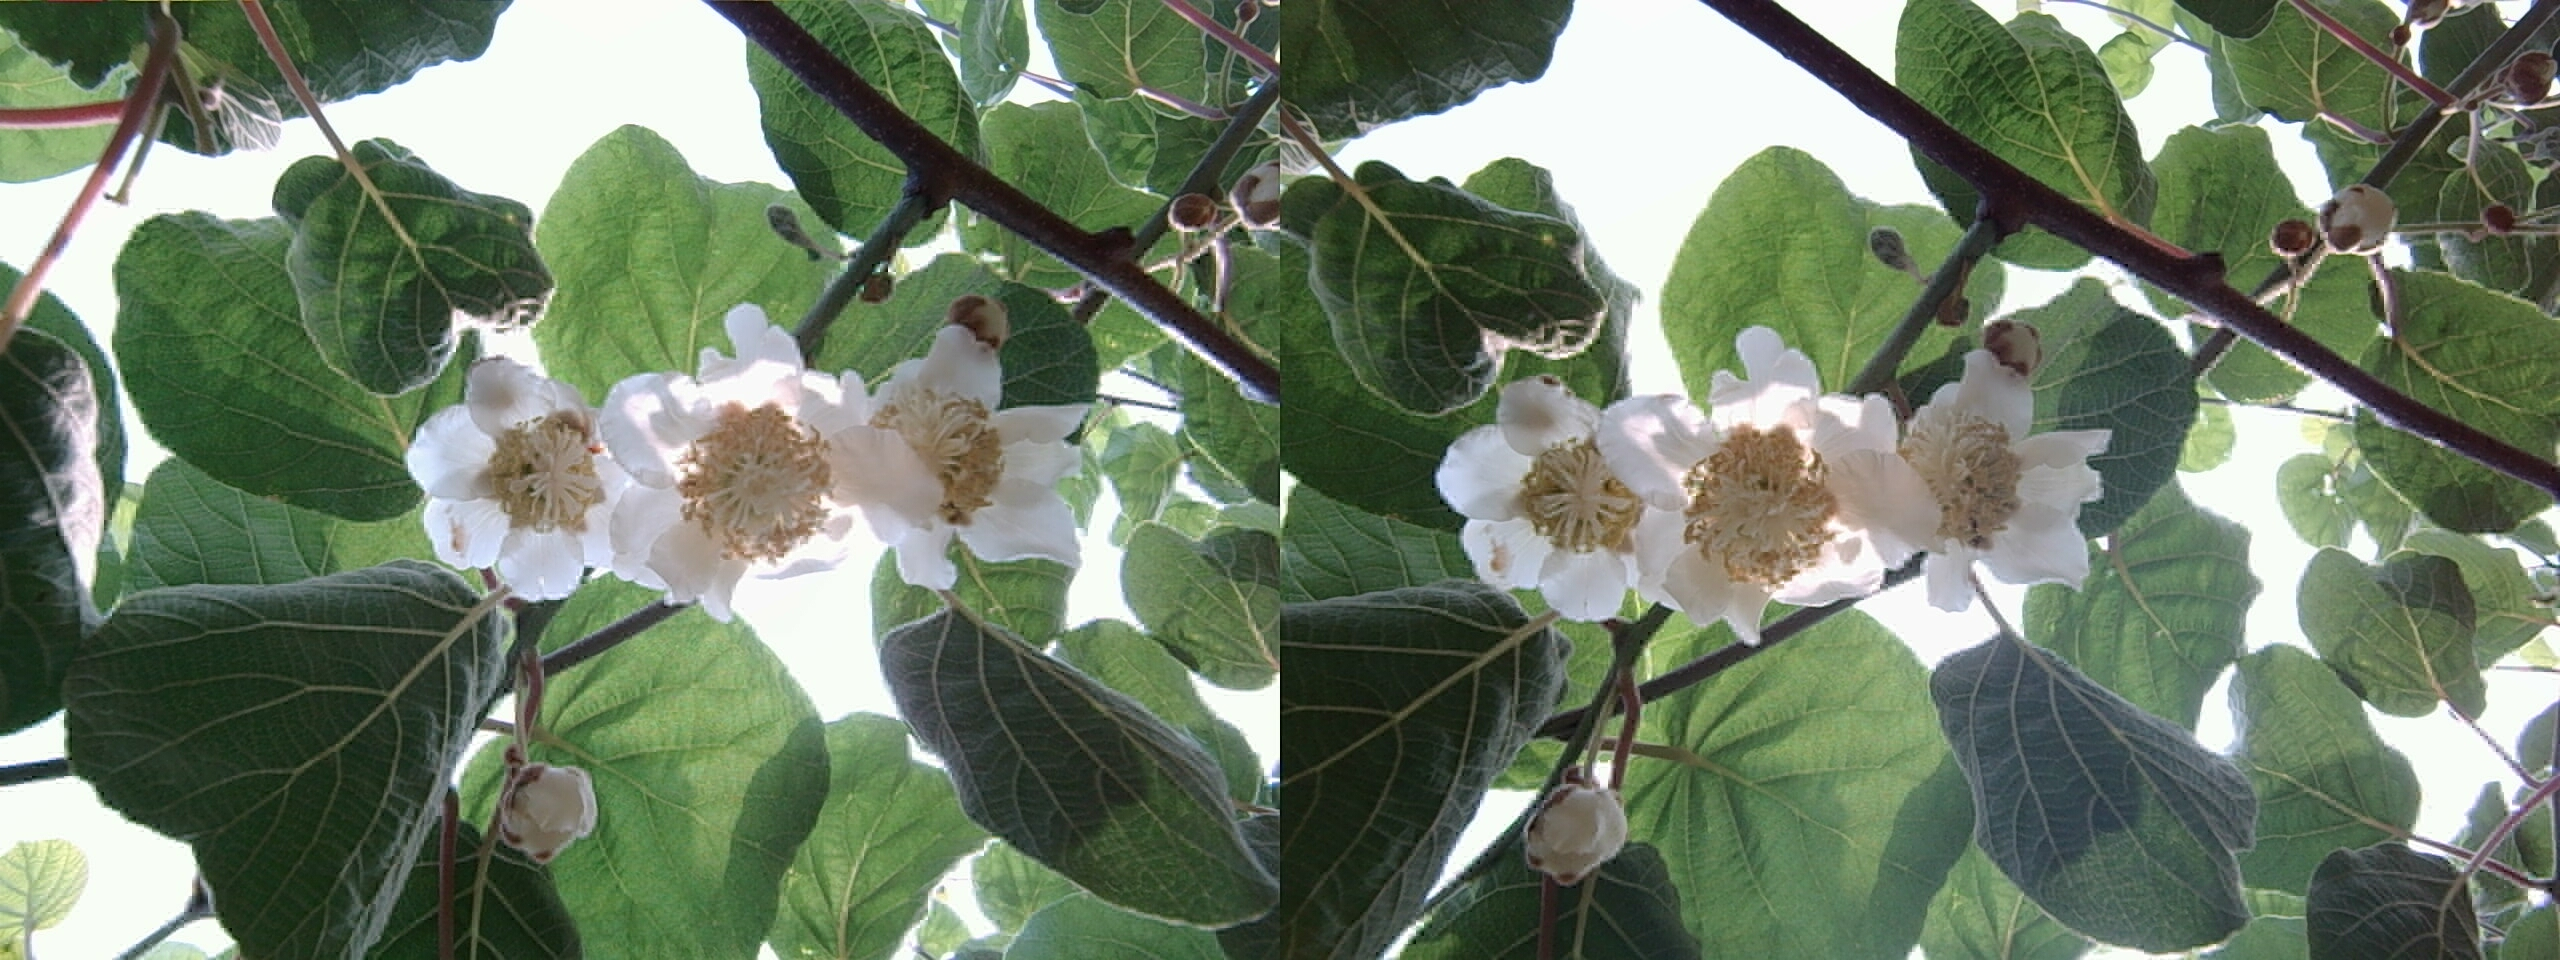flower: (602, 341, 862, 606), (1628, 367, 1891, 625), (1843, 338, 2095, 601), (833, 304, 1069, 575), (405, 348, 630, 594), (1440, 371, 1669, 611)
